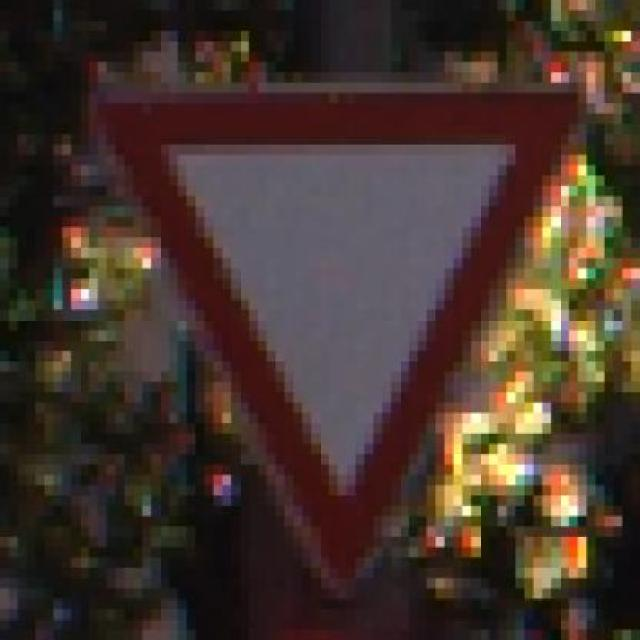Give Way: (89, 62, 605, 609)
